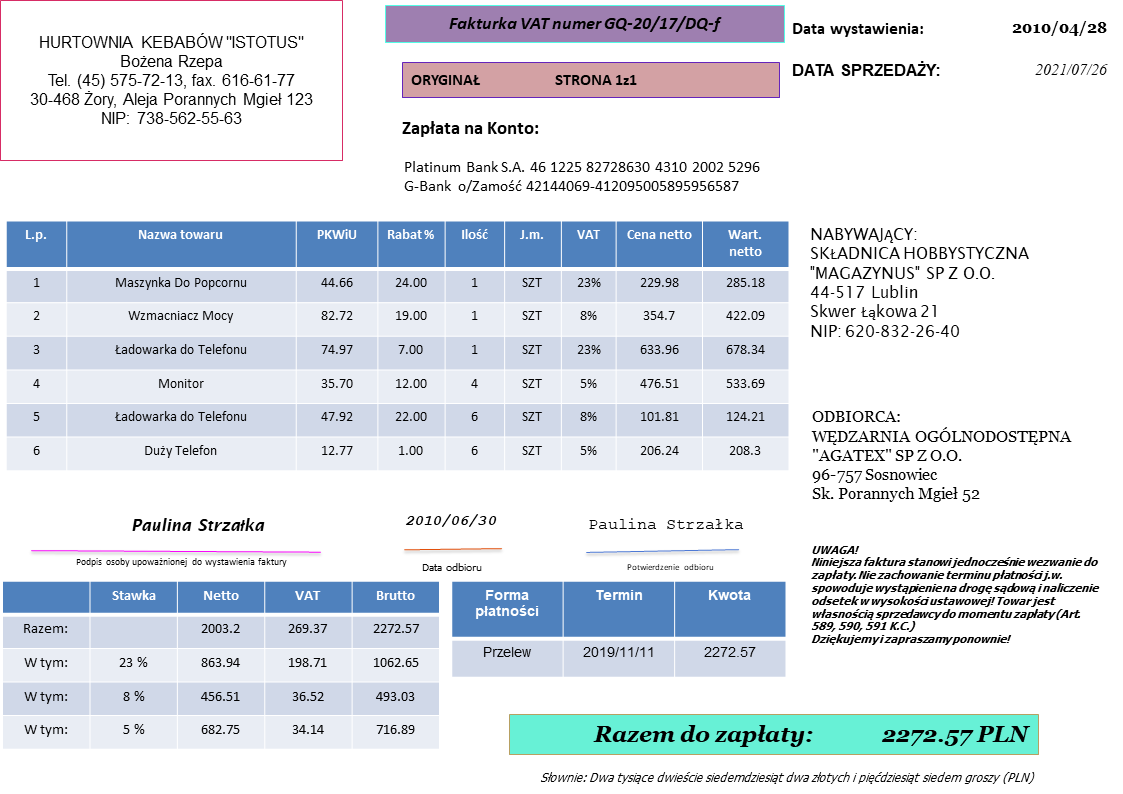Table: (4, 219, 789, 472), (1, 580, 441, 751), (450, 580, 787, 679)
TextBox: (809, 541, 1102, 648), (27, 30, 315, 130), (806, 223, 1031, 342), (809, 406, 1074, 505), (399, 157, 763, 195), (591, 721, 1033, 749), (538, 769, 1038, 788), (445, 13, 724, 34), (407, 70, 638, 90), (73, 554, 288, 570), (789, 60, 942, 80), (128, 514, 266, 536), (586, 515, 744, 534), (398, 120, 540, 138), (789, 19, 923, 38), (1010, 19, 1109, 39), (404, 512, 499, 529), (1032, 60, 1110, 78), (623, 561, 715, 574), (419, 560, 482, 576)
